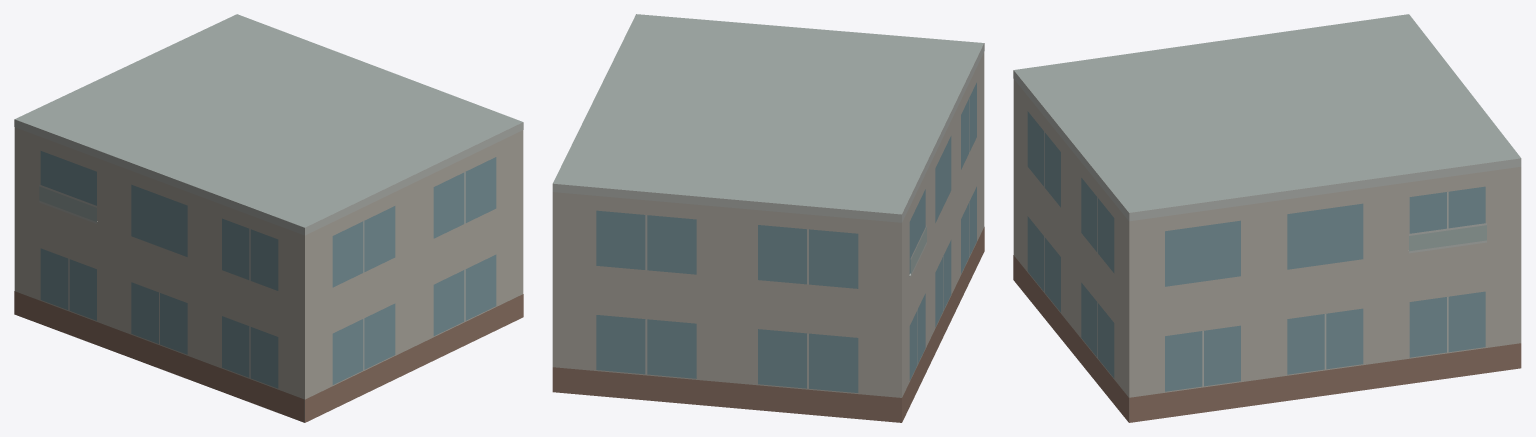
Rendered from survey-upis-32501776.glb.
3 renders of one model, left to right at view 1: azimuth 30°, elevation 25°; view 2: azimuth 150°, elevation 25°; view 3: azimuth 270°, elevation 25°, orthographic. The views are drawn at different scales.
Parts seen in each view (by area): view 1: survey-upis-32501776.tmp; view 2: survey-upis-32501776.tmp; view 3: survey-upis-32501776.tmp.
Part boxes in pixels (x1,y1,x2,y2): survey-upis-32501776.tmp: [14, 14, 523, 422]; survey-upis-32501776.tmp: [552, 14, 984, 422]; survey-upis-32501776.tmp: [1013, 14, 1521, 422].
Bounding box in the file's own units: 12.41 × 6.1 × 13.39.
